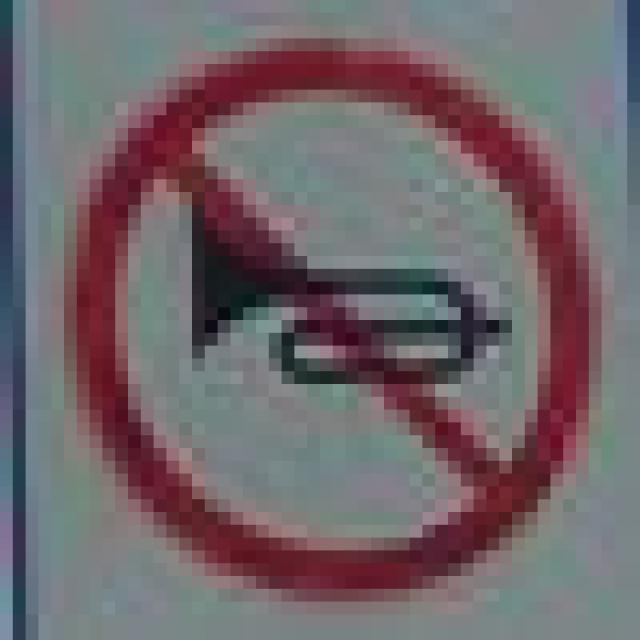HORN_PROHIBITED: (51, 38, 589, 589)
